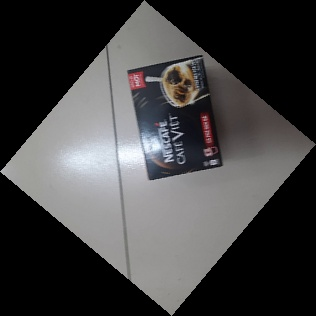CF Viet: (125, 55, 223, 183)
